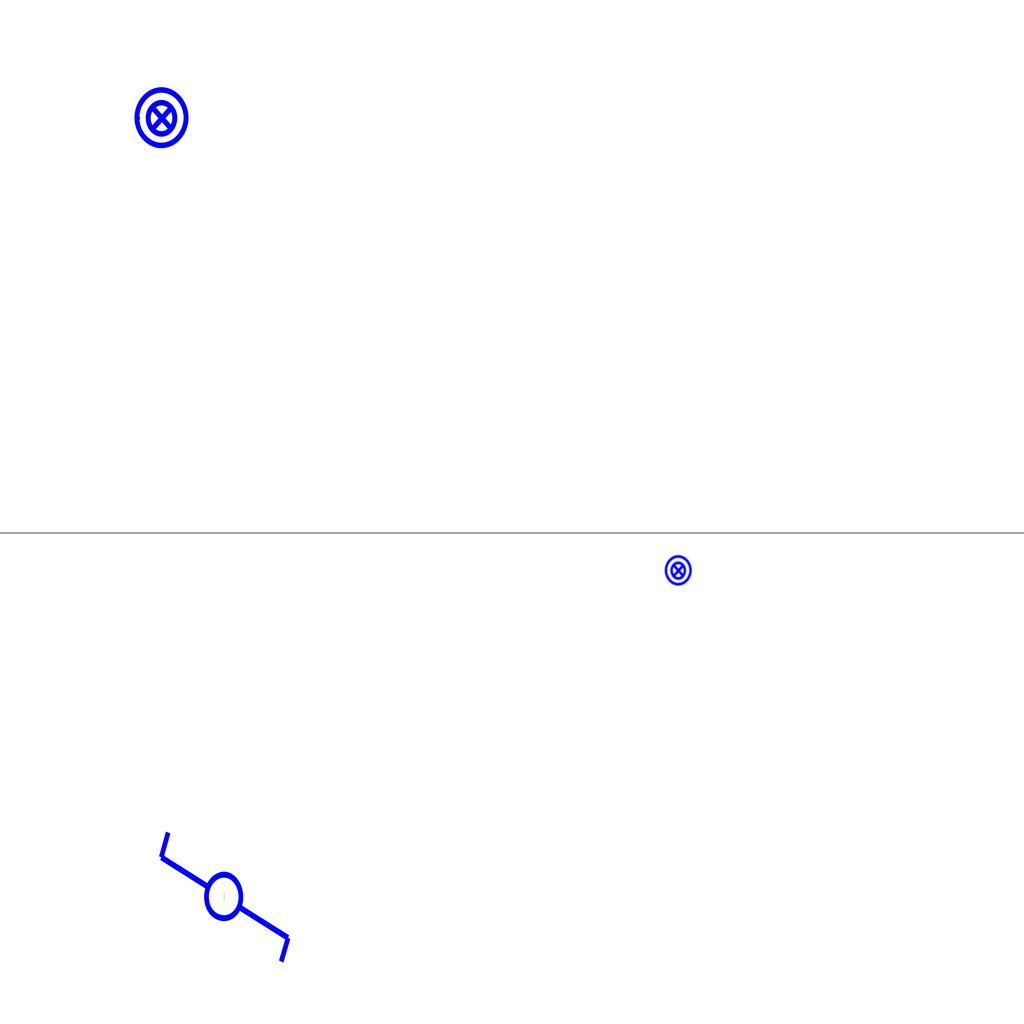Taster_beleuchtet: (129, 85, 195, 151), (662, 554, 695, 587)
Wechselschalter: (154, 810, 298, 967)
